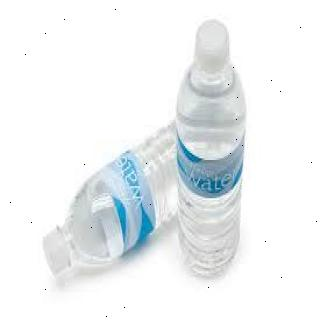Plastic-bottle: (42, 113, 177, 280), (174, 18, 249, 283)
